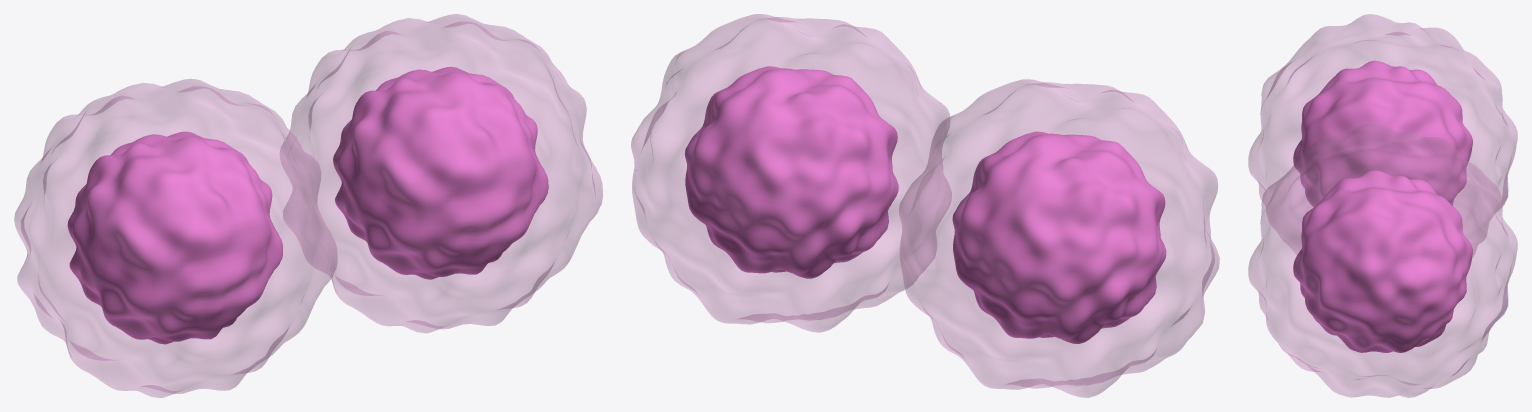
File: modelTwo.gltf
3 renders of one model, left to right at view 1: azimuth 30°, elevation 25°; view 2: azimuth 150°, elevation 25°; view 3: azimuth 270°, elevation 25°, orthographic. The views are drawn at different scales.
Visible parts, largest first — view 1: Membrane, Membrane_Cube.003, Nukleus, Nukleus_Cube; view 2: Membrane, Membrane_Cube.003, Nukleus, Nukleus_Cube; view 3: Membrane_Cube.003, Membrane, Nukleus_Cube, Nukleus.
Boxes of the visible parts, x1,y1,x2,y2 form: Membrane: (14, 79, 337, 397); Membrane_Cube.003: (280, 14, 602, 332); Nukleus: (67, 131, 282, 344); Nukleus_Cube: (333, 66, 548, 279); Membrane: (899, 79, 1219, 397); Membrane_Cube.003: (631, 14, 951, 332); Nukleus: (952, 131, 1166, 343); Nukleus_Cube: (684, 66, 898, 278); Membrane_Cube.003: (1248, 123, 1517, 397); Membrane: (1248, 14, 1517, 257); Nukleus_Cube: (1293, 170, 1472, 352); Nukleus: (1293, 60, 1472, 207).
Size of the model in its own units: 5.16 by 2.63 by 2.65.
